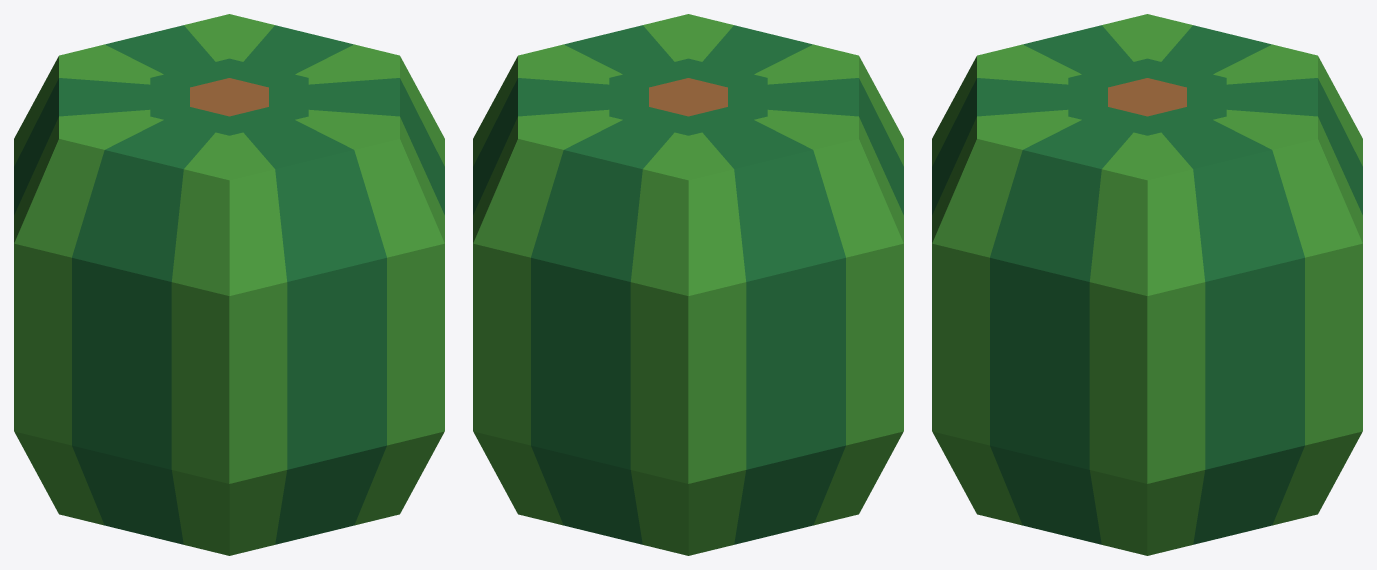
The model's file is crop-melon.glb.
3 views of the same model, side by side, from view 1: azimuth 30°, elevation 25°; view 2: azimuth 150°, elevation 25°; view 3: azimuth 270°, elevation 25° (orthographic).
Parts seen in each view (by area): view 1: crop-melon; view 2: crop-melon; view 3: crop-melon.
Part boxes in pixels (x1,y1,x2,y2): crop-melon: (14,14,444,555); crop-melon: (473,14,903,555); crop-melon: (932,14,1362,555).
Size of the model in its own units: 0.4176 by 0.348 by 0.3617.
